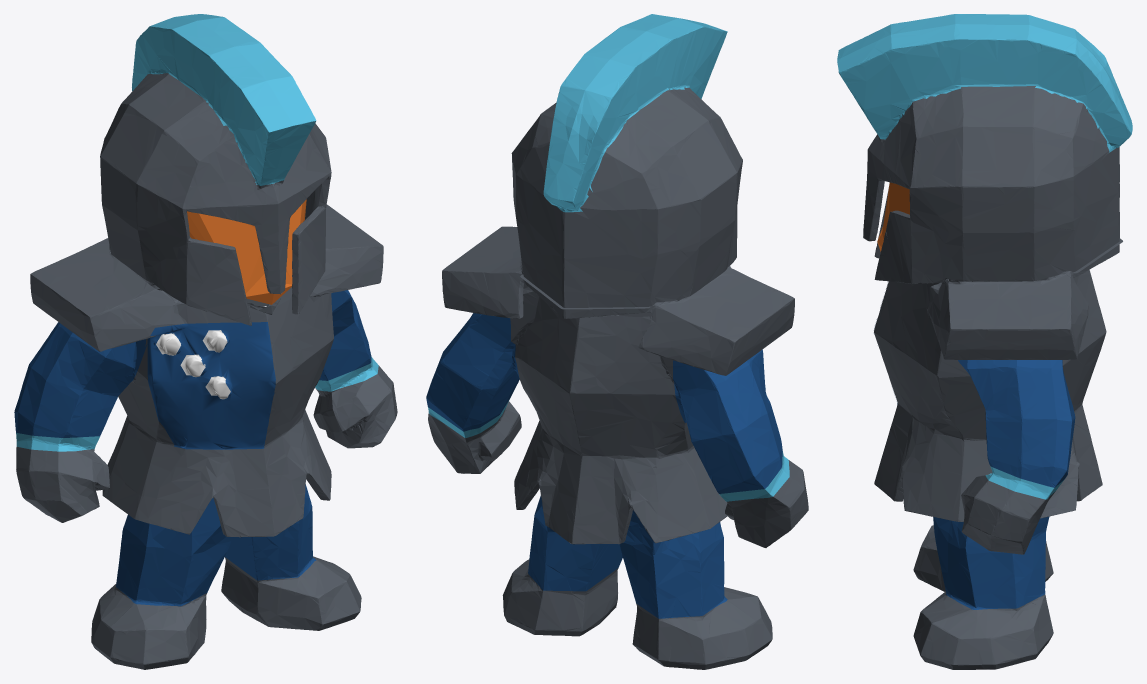
The model's file is argosmemnon.glb.
3 renders of one model, left to right at view 1: azimuth 30°, elevation 25°; view 2: azimuth 150°, elevation 25°; view 3: azimuth 270°, elevation 25°, orthographic.
Parts seen in each view (by area): view 1: helm, kain_pinggang, jambul, sepatu, panel_dada, bahu, lengan, kaki, badan, tangan, kepala, gelang (+1 smaller); view 2: helm, badan, lengan, jambul, bahu, kain_pinggang, sepatu, kaki, tangan, gelang; view 3: helm, jambul, badan, bahu, kain_pinggang, lengan, sepatu, kaki, tangan, gelang, kepala.
Boxes of the visible parts, x1,y1,x2,y2 form: helm: (100,73,331,325); kain_pinggang: (102,410,331,537); jambul: (132,14,316,185); sepatu: (91,556,361,669); panel_dada: (147,322,275,449); bahu: (30,204,383,351); lengan: (14,290,371,437); kaki: (116,484,316,606); badan: (113,247,343,447); tangan: (16,365,397,522); kepala: (187,199,306,304); gelang: (16,356,378,451); helm: (511,87,742,318); badan: (510,266,736,459); lengan: (426,313,782,493); jambul: (543,14,727,212); bahu: (442,226,794,375); kain_pinggang: (514,420,727,544); sepatu: (502,559,772,669); kaki: (528,495,727,618); tangan: (428,401,808,547); gelang: (428,399,789,501); helm: (863,86,1119,282); jambul: (837,14,1132,152); badan: (874,238,1122,441); bahu: (904,263,1089,359); kain_pinggang: (874,405,1102,521); lengan: (958,360,1075,487); sepatu: (913,525,1053,669); kaki: (933,516,1049,609); tangan: (961,474,1055,554); gelang: (985,466,1063,499); kepala: (877,182,909,251).
Size of the model in its own units: 1.23 by 1.9 by 0.867.
